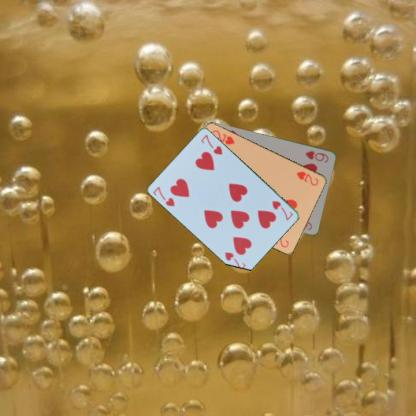2h: (294, 168, 320, 186)
6h: (303, 148, 330, 163)
7h: (151, 184, 176, 208), (270, 198, 294, 222)
